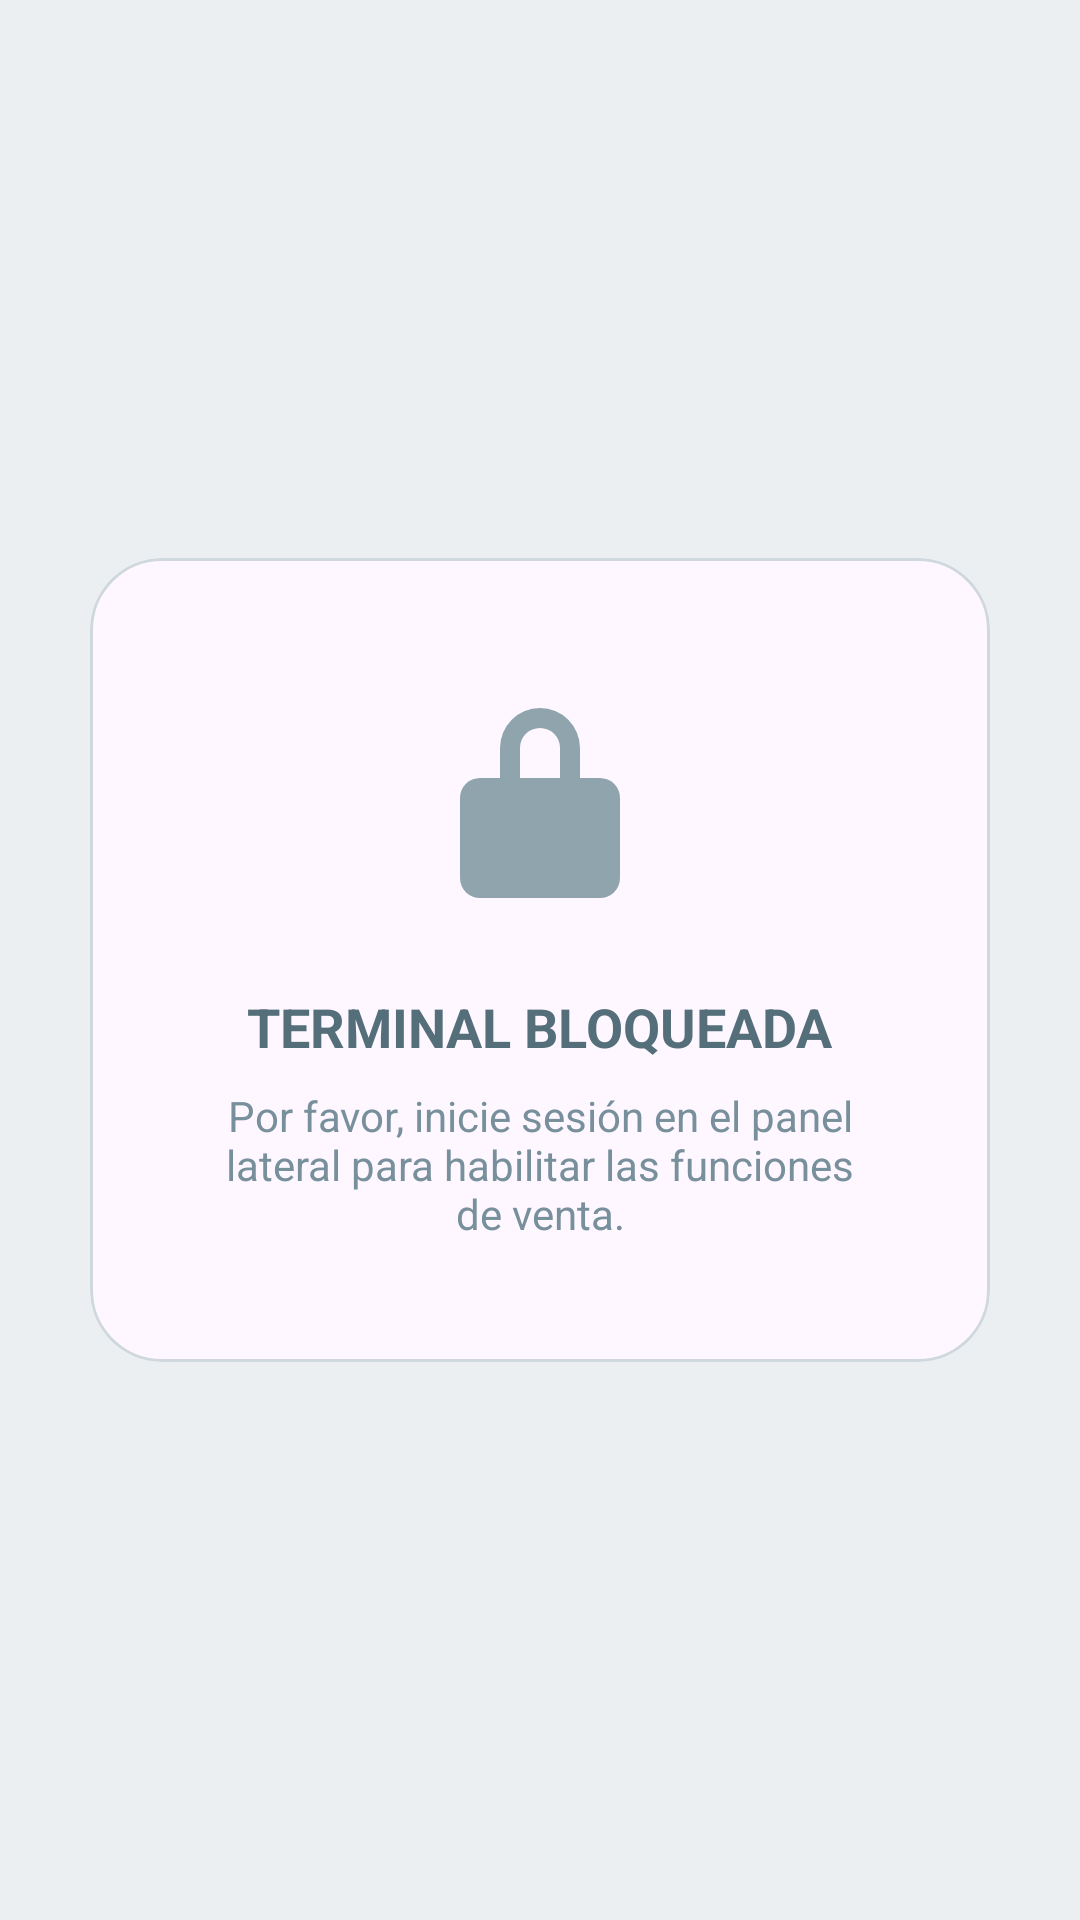

Screen size 1080px x 1920px. Icon name, then its box in pixels as {"left": x1, "top": y1, "right": x2, "bottom": y2}:
lock: {"left": 460, "top": 708, "right": 620, "bottom": 898}
